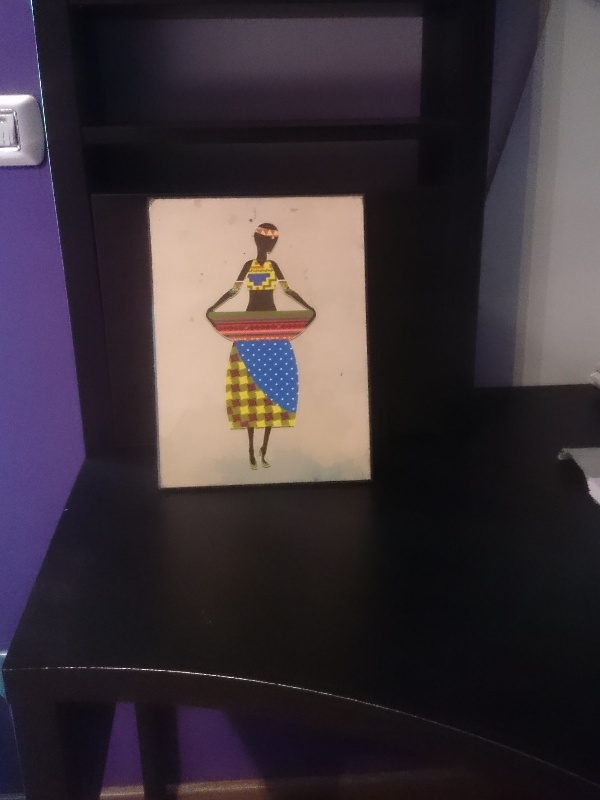my image: (155, 198, 363, 489)
